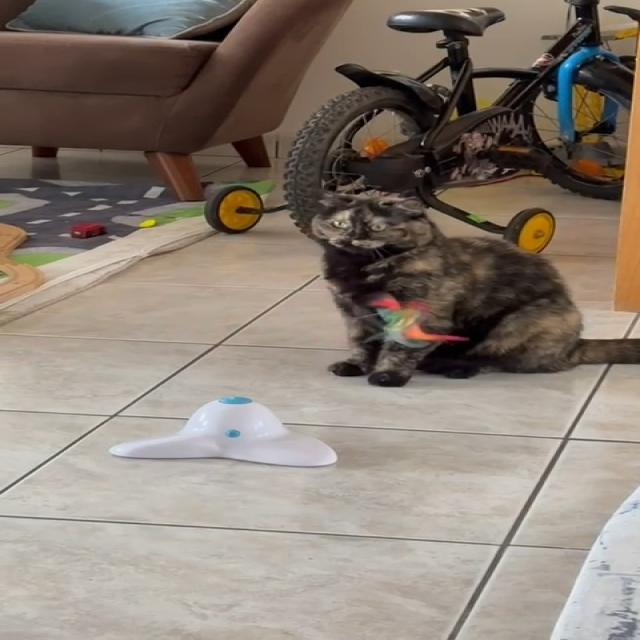authorized: (308, 190, 639, 387)
